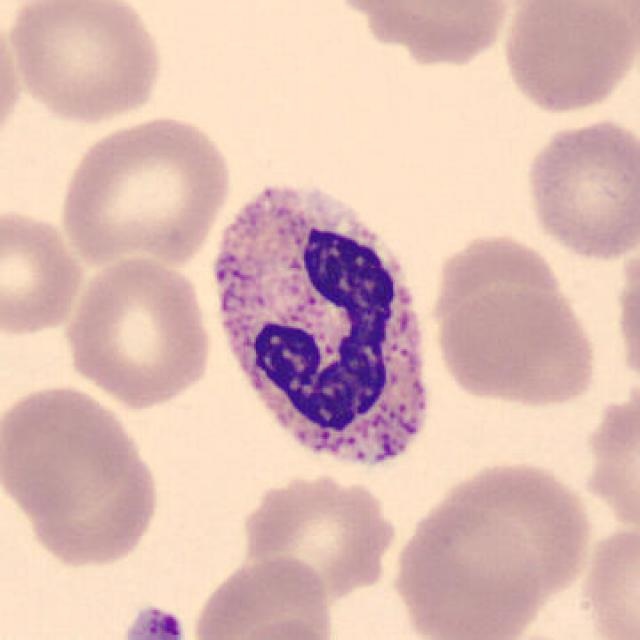Neutrophil: (201, 166, 448, 490)
Platelets: (117, 601, 192, 640)
RBC: (386, 453, 597, 635), (54, 113, 236, 270), (59, 252, 217, 411), (236, 467, 402, 605), (428, 284, 602, 411), (433, 227, 571, 380), (4, 0, 167, 127), (21, 425, 168, 563), (2, 381, 138, 520), (519, 113, 638, 264), (498, 0, 636, 118), (186, 550, 340, 640), (327, 0, 517, 65), (0, 203, 87, 340), (578, 518, 638, 640), (0, 9, 27, 160), (218, 613, 343, 640)
